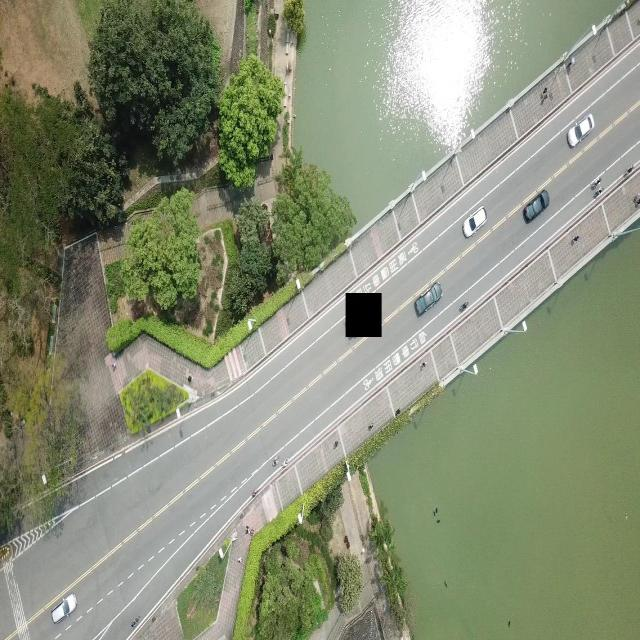bike: (591, 175, 603, 197), (272, 456, 278, 465)
car: (414, 280, 442, 317), (566, 110, 593, 148), (522, 186, 549, 222), (462, 204, 486, 238), (51, 592, 76, 624)
